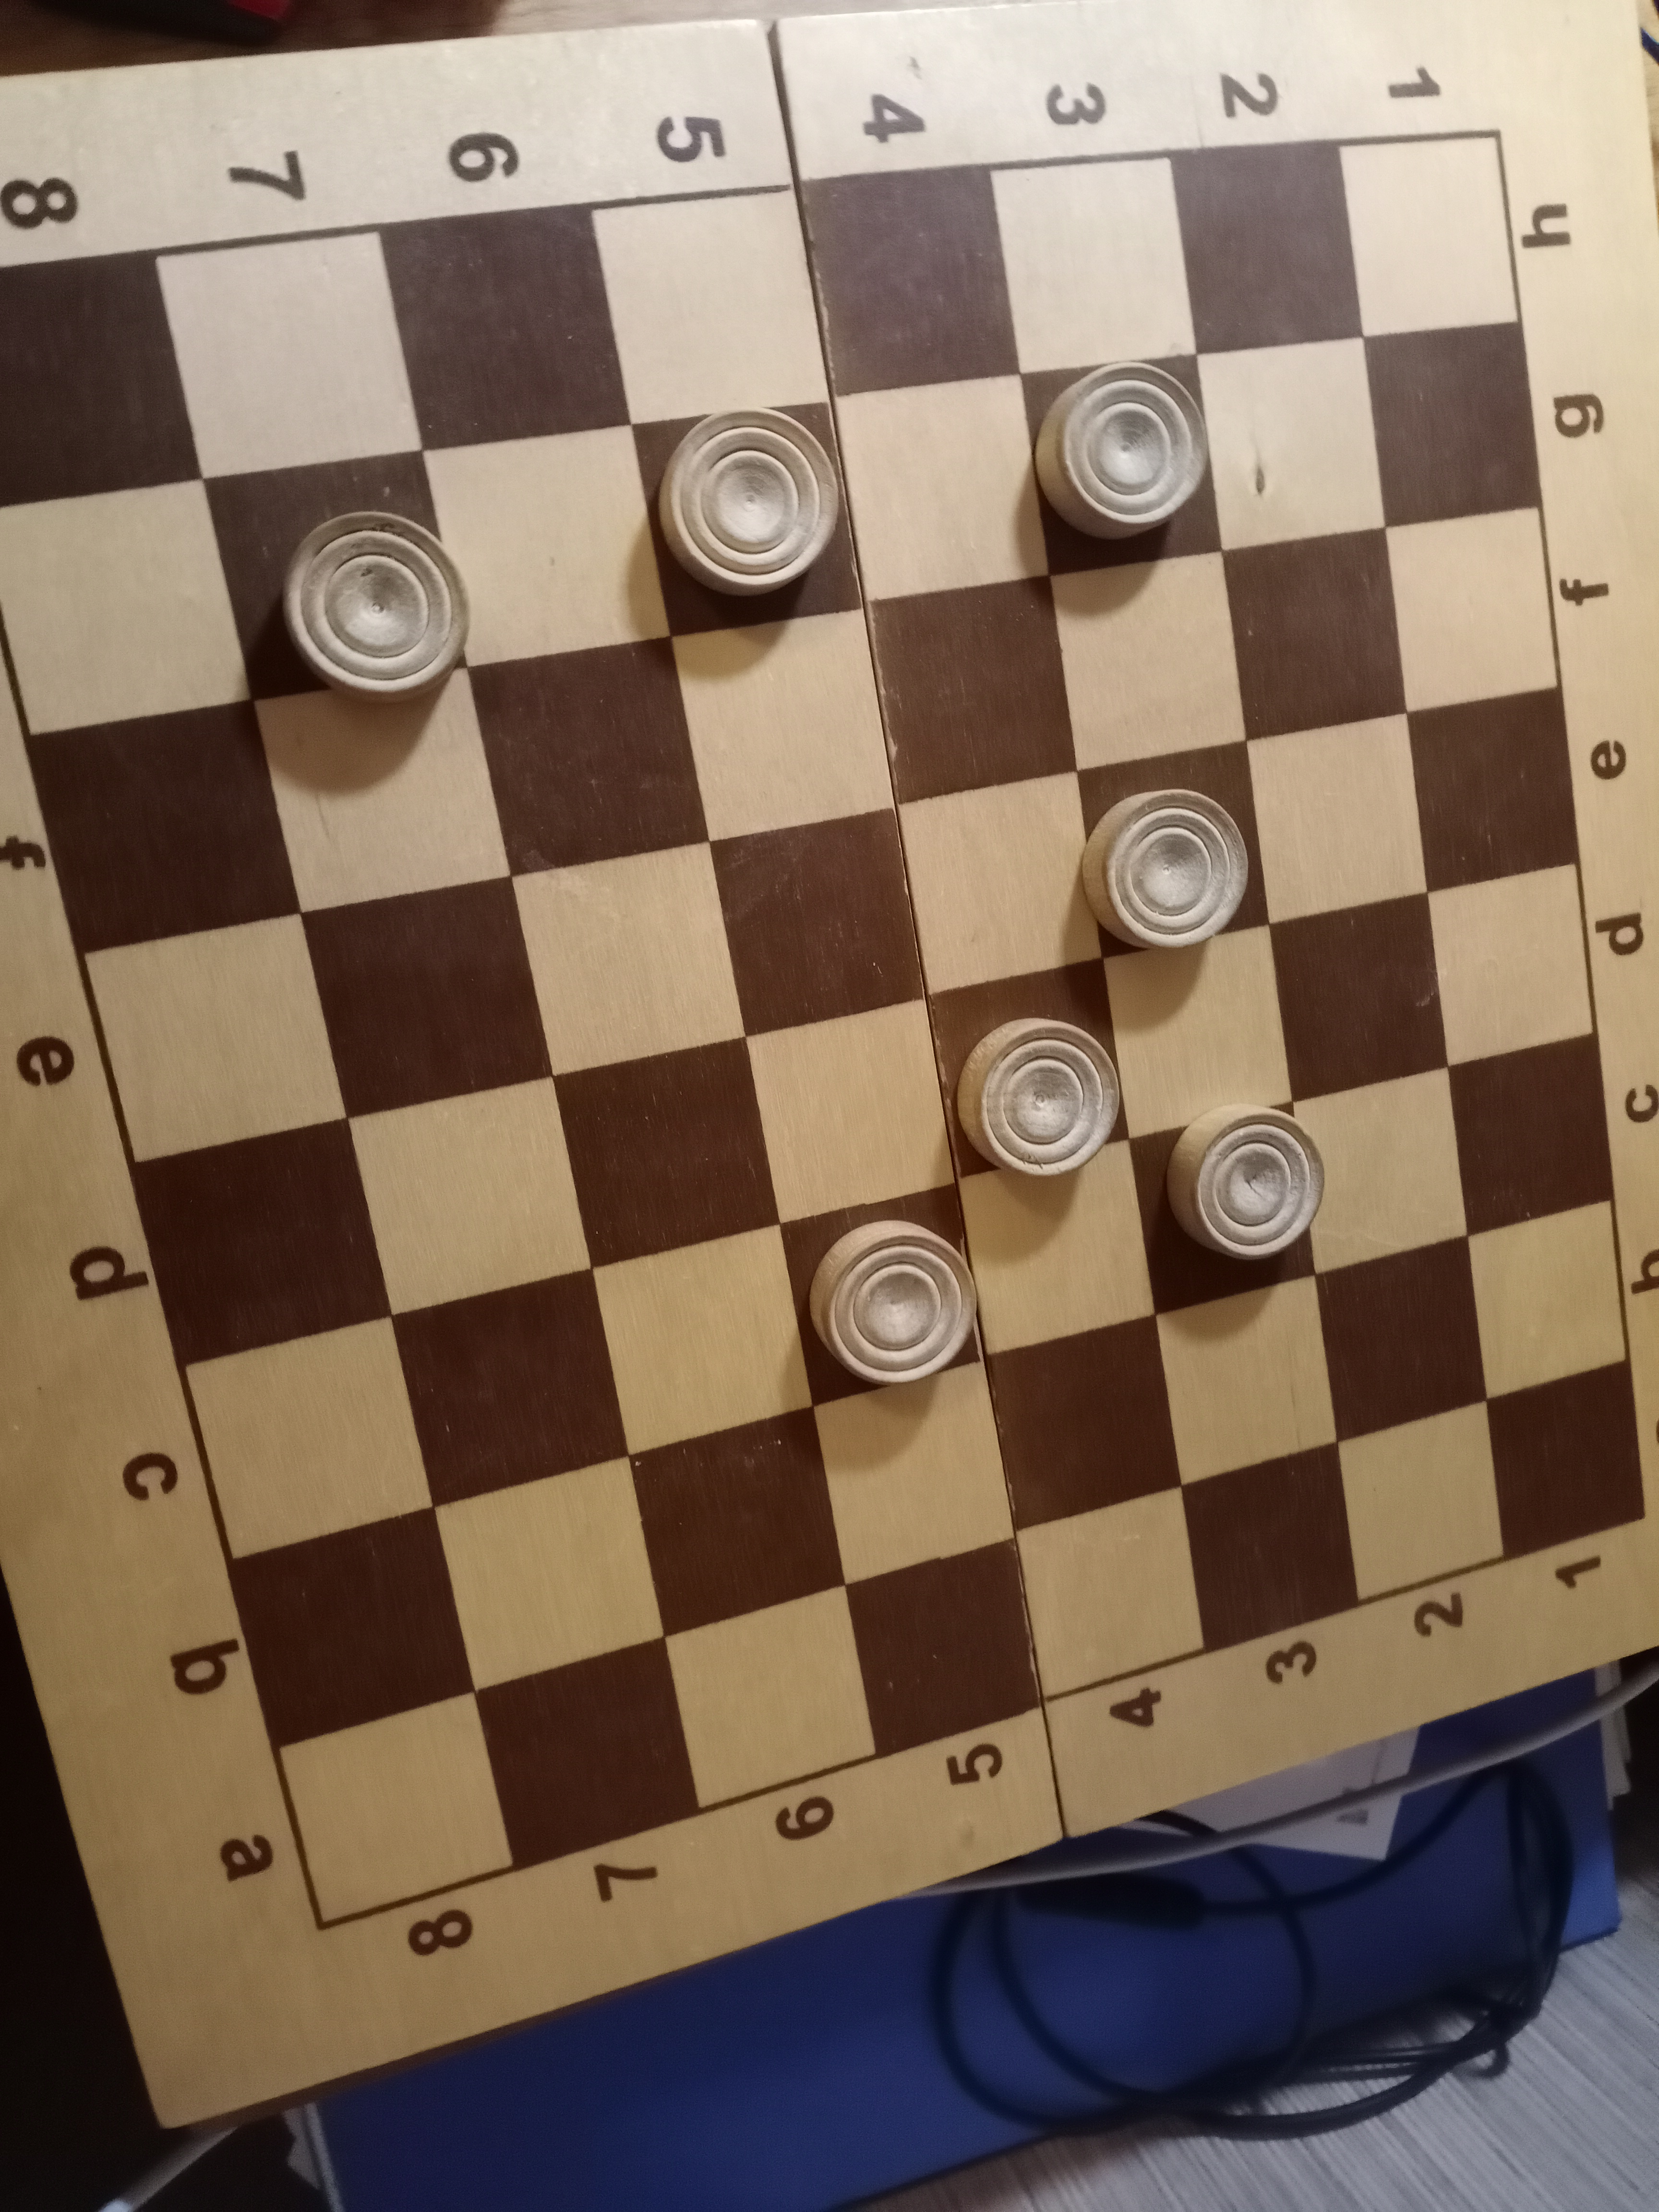White_Draught: (204, 451, 471, 702), (629, 402, 864, 637), (779, 1183, 981, 1406), (1021, 354, 1222, 578), (927, 960, 1129, 1181), (1077, 742, 1270, 961), (1129, 1101, 1324, 1313)
